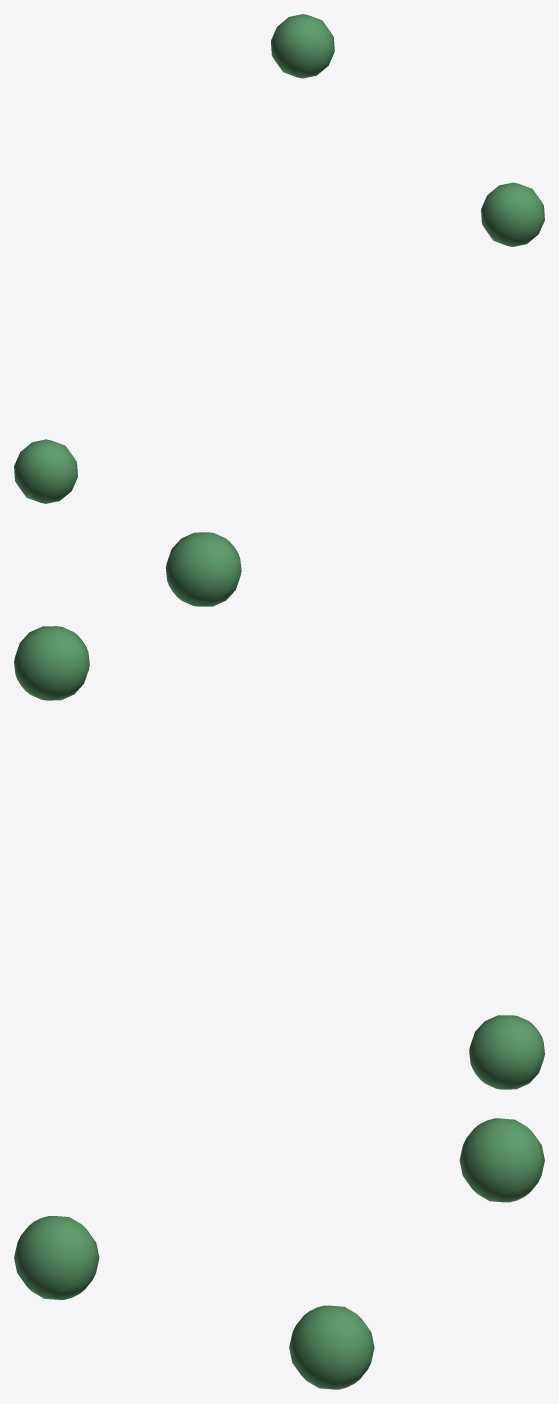
3 renders of one model, top to bottom at view 1: azimuth 30°, elevation 25°; view 2: azimuth 150°, elevation 25°; view 3: azimuth 270°, elevation 25°, orthographic. The views are drawn at different scales.
Visible parts, largest first — view 1: 左侧下颌淋巴结; view 2: 左侧下颌淋巴结; view 3: 左侧下颌淋巴结.
Part boxes in pixels (left/top/right/bottom): 左侧下颌淋巴结: left=14, top=14, right=544, bottom=503; 左侧下颌淋巴结: left=14, top=532, right=544, bottom=1089; 左侧下颌淋巴结: left=14, top=1118, right=544, bottom=1389.
Size of the model in its own units: 0.0284 by 0.0232 by 0.0238.
